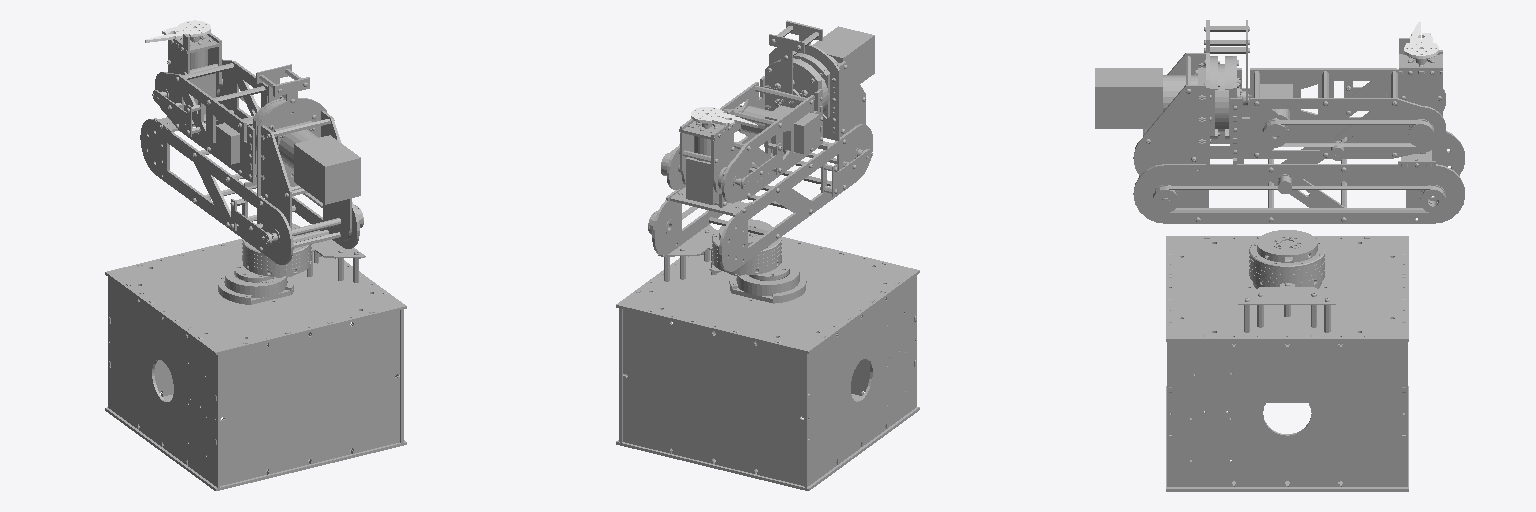
URDF robot description (urdf4):
<?xml version="1.0" encoding="utf-8"?>
<!-- This URDF was automatically created by SolidWorks to URDF Exporter! Originally created by [author] ([email redacted]) 
     Commit Version: 1.6.0-1-g15f4949  Build Version: 1.6.7594.29634
     For more information, please see http://wiki.ros.org/sw_urdf_exporter -->
<robot
  name="urdf4">
  <link
    name="base_link">
    <inertial>
      <origin
        xyz="-0.14899 0.15002 -0.0759"
        rpy="0 0 0" />
      <mass
        value="1.9822" />
      <inertia
        ixx="0.012049"
        ixy="1.1566E-08"
        ixz="1.8132E-07"
        iyy="0.011641"
        iyz="1.7455E-07"
        izz="0.016009" />
    </inertial>
    <visual>
      <origin
        xyz="0 0 0"
        rpy="0 0 0" />
      <geometry>
        <mesh
          filename="package://urdf4/meshes/base_link.STL" />
      </geometry>
      <material
        name="">
        <color
          rgba="0.75294 0.75294 0.75294 1" />
      </material>
    </visual>
    <collision>
      <origin
        xyz="0 0 0"
        rpy="0 0 0" />
      <geometry>
        <mesh
          filename="package://urdf4/meshes/base_link.STL" />
      </geometry>
    </collision>
  </link>
  <link
    name="link1">
    <inertial>
      <origin
        xyz="-0.0013865 0.15276 0.088653"
        rpy="0 0 0" />
      <mass
        value="1.3755" />
      <inertia
        ixx="0.0017311"
        ixy="4.6286E-06"
        ixz="5.0014E-06"
        iyy="0.002521"
        iyz="-0.00028073"
        izz="0.0030047" />
    </inertial>
    <visual>
      <origin
        xyz="0 0 0"
        rpy="0 0 0" />
      <geometry>
        <mesh
          filename="package://urdf4/meshes/link1.STL" />
      </geometry>
      <material
        name="">
        <color
          rgba="0.75294 0.75294 0.75294 1" />
      </material>
    </visual>
    <collision>
      <origin
        xyz="0 0 0"
        rpy="0 0 0" />
      <geometry>
        <mesh
          filename="package://urdf4/meshes/link1.STL" />
      </geometry>
    </collision>
  </link>
  <joint
    name="joint1"
    type="revolute">
    <origin
      xyz="-0.15 0.15 0.0375"
      rpy="0 0 0" />
    <parent
      link="base_link" />
    <child
      link="link1" />
    <axis
      xyz="0 0 1" />
    <limit
      lower="0"
      upper="0"
      effort="0"
      velocity="0" />
  </joint>
  <link
    name="link2">
    <inertial>
      <origin
        xyz="-0.17171 -0.0022525 0.037709"
        rpy="0 0 0" />
      <mass
        value="0.2987" />
      <inertia
        ixx="0.00016953"
        ixy="5.2701E-06"
        ixz="-9.0978E-13"
        iyy="0.0029683"
        iyz="-8.8435E-13"
        izz="0.0030499" />
    </inertial>
    <visual>
      <origin
        xyz="0 0 0"
        rpy="0 0 0" />
      <geometry>
        <mesh
          filename="package://urdf4/meshes/link2.STL" />
      </geometry>
      <material
        name="">
        <color
          rgba="0.75294 0.75294 0.75294 1" />
      </material>
    </visual>
    <collision>
      <origin
        xyz="0 0 0"
        rpy="0 0 0" />
      <geometry>
        <mesh
          filename="package://urdf4/meshes/link2.STL" />
      </geometry>
    </collision>
  </link>
  <joint
    name="joint2"
    type="revolute">
    <origin
      xyz="0.0495 0.18 0.118"
      rpy="-1.5708 0 1.5708" />
    <parent
      link="link1" />
    <child
      link="link2" />
    <axis
      xyz="0 0 -1" />
    <limit
      lower="0"
      upper="0"
      effort="0"
      velocity="0" />
  </joint>
  <link
    name="link3">
    <inertial>
      <origin
        xyz="0.0052197 -0.10068 -0.044998"
        rpy="0 0 0" />
      <mass
        value="0.69326" />
      <inertia
        ixx="0.00064304"
        ixy="3.0941E-05"
        ixz="-7.9077E-09"
        iyy="0.00097281"
        iyz="-6.2841E-09"
        izz="0.0011748" />
    </inertial>
    <visual>
      <origin
        xyz="0 0 0"
        rpy="0 0 0" />
      <geometry>
        <mesh
          filename="package://urdf4/meshes/link3.STL" />
      </geometry>
      <material
        name="">
        <color
          rgba="0.75294 0.75294 0.75294 1" />
      </material>
    </visual>
    <collision>
      <origin
        xyz="0 0 0"
        rpy="0 0 0" />
      <geometry>
        <mesh
          filename="package://urdf4/meshes/link3.STL" />
      </geometry>
    </collision>
  </link>
  <joint
    name="joint3"
    type="revolute">
    <origin
      xyz="-0.33 -0.00015681 0.095"
      rpy="0 0 0" />
    <parent
      link="link2" />
    <child
      link="link3" />
    <axis
      xyz="0 0 -1" />
    <limit
      lower="0"
      upper="0"
      effort="0"
      velocity="0" />
  </joint>
  <link
    name="link4">
    <inertial>
      <origin
        xyz="0.0020304 0.018808 0.072716"
        rpy="0 0 0" />
      <mass
        value="0.43855" />
      <inertia
        ixx="0.0009677"
        ixy="1.2408E-08"
        ixz="-8.7228E-13"
        iyy="0.00096859"
        iyz="5.1704E-06"
        izz="0.00033754" />
    </inertial>
    <visual>
      <origin
        xyz="0 0 0"
        rpy="0 0 0" />
      <geometry>
        <mesh
          filename="package://urdf4/meshes/link4.STL" />
      </geometry>
      <material
        name="">
        <color
          rgba="0.75294 0.75294 0.75294 1" />
      </material>
    </visual>
    <collision>
      <origin
        xyz="0 0 0"
        rpy="0 0 0" />
      <geometry>
        <mesh
          filename="package://urdf4/meshes/link4.STL" />
      </geometry>
    </collision>
  </link>
  <joint
    name="joint4"
    type="revolute">
    <origin
      xyz="0.091491 -0.10584 -0.045"
      rpy="0 1.5708 0" />
    <parent
      link="link3" />
    <child
      link="link4" />
    <axis
      xyz="0 0 1" />
    <limit
      lower="0"
      upper="0"
      effort="0"
      velocity="0" />
  </joint>
  <link
    name="link5">
    <inertial>
      <origin
        xyz="7.4642E-05 -0.018439 -0.032488"
        rpy="0 0 0" />
      <mass
        value="0.2392" />
      <inertia
        ixx="0.00018859"
        ixy="9.6096E-07"
        ixz="-1.4516E-09"
        iyy="5.6612E-05"
        iyz="-1.1347E-08"
        izz="0.00020112" />
    </inertial>
    <visual>
      <origin
        xyz="0 0 0"
        rpy="0 0 0" />
      <geometry>
        <mesh
          filename="package://urdf4/meshes/link5.STL" />
      </geometry>
      <material
        name="">
        <color
          rgba="0.75294 0.75294 0.75294 1" />
      </material>
    </visual>
    <collision>
      <origin
        xyz="0 0 0"
        rpy="0 0 0" />
      <geometry>
        <mesh
          filename="package://urdf4/meshes/link5.STL" />
      </geometry>
    </collision>
  </link>
  <joint
    name="joint5"
    type="revolute">
    <origin
      xyz="0.0305 0.02185 0.224"
      rpy="0 1.5708 0" />
    <parent
      link="link4" />
    <child
      link="link5" />
    <axis
      xyz="0 0 1" />
    <limit
      lower="0"
      upper="0"
      effort="0"
      velocity="0" />
  </joint>
  <link
    name="link6">
    <inertial>
      <origin
        xyz="0.017164 0.00018833 0.020914"
        rpy="0 0 0" />
      <mass
        value="0.021655" />
      <inertia
        ixx="6.5964E-06"
        ixy="-1.7068E-07"
        ixz="-4.2317E-22"
        iyy="1.0789E-05"
        iyz="8.5837E-21"
        izz="7.0208E-06" />
    </inertial>
    <visual>
      <origin
        xyz="0 0 0"
        rpy="0 0 0" />
      <geometry>
        <mesh
          filename="package://urdf4/meshes/link6.STL" />
      </geometry>
      <material
        name="">
        <color
          rgba="0.75294 0.75294 0.75294 1" />
      </material>
    </visual>
    <collision>
      <origin
        xyz="0 0 0"
        rpy="0 0 0" />
      <geometry>
        <mesh
          filename="package://urdf4/meshes/link6.STL" />
      </geometry>
    </collision>
  </link>
  <joint
    name="joint6"
    type="revolute">
    <origin
      xyz="0 -0.086 -0.0305"
      rpy="1.5708 1.5708 0" />
    <parent
      link="link5" />
    <child
      link="link6" />
    <axis
      xyz="0 0 1" />
    <limit
      lower="0"
      upper="0"
      effort="0"
      velocity="0" />
  </joint>
  <link
    name="gripper">
    <inertial>
      <origin
        xyz="-0.06479 -0.00053725 -0.002"
        rpy="0 0 0" />
      <mass
        value="0.008813" />
      <inertia
        ixx="9.1247E-07"
        ixy="-1.7068E-07"
        ixz="-7.1989E-22"
        iyy="4.3239E-06"
        iyz="-6.2069E-23"
        izz="5.2128E-06" />
    </inertial>
    <visual>
      <origin
        xyz="0 0 0"
        rpy="0 0 0" />
      <geometry>
        <mesh
          filename="package://urdf4/meshes/gripper.STL" />
      </geometry>
      <material
        name="">
        <color
          rgba="1 1 1 1" />
      </material>
    </visual>
    <collision>
      <origin
        xyz="0 0 0"
        rpy="0 0 0" />
      <geometry>
        <mesh
          filename="package://urdf4/meshes/gripper.STL" />
      </geometry>
    </collision>
  </link>
  <joint
    name="g"
    type="fixed">
    <origin
      xyz="0.078254 0.001 0.004"
      rpy="0 0 0" />
    <parent
      link="link6" />
    <child
      link="gripper" />
    <axis
      xyz="0 0 0" />
  </joint>
</robot>

--- Facts derived from the render (not from the file) ---
Views: 3 orthographic renders of the robot side by side, from view 1: azimuth 30°, elevation 25°; view 2: azimuth 150°, elevation 25°; view 3: azimuth 270°, elevation 25°.
Model urdf4 with 8 links and 7 joints (6 revolute, 1 fixed), rooted at base_link, posed all joints at 0.
Visible links, largest first — view 1: base_link, link3, link2, link4, link5, link1, gripper; view 2: base_link, link2, link4, link3, link5, link1, gripper; view 3: base_link, link2, link4, link3, link1, link5, gripper.
Boxes of the visible links, <box> form: base_link: <box>105,230,406,490</box>; link3: <box>255,64,360,247</box>; link2: <box>140,102,363,264</box>; link4: <box>152,59,285,187</box>; link5: <box>160,32,222,114</box>; link1: <box>242,223,311,282</box>; gripper: <box>145,20,210,42</box>; base_link: <box>616,224,919,490</box>; link2: <box>648,124,872,271</box>; link4: <box>661,58,827,203</box>; link3: <box>769,20,874,163</box>; link5: <box>678,109,741,207</box>; link1: <box>709,219,781,276</box>; gripper: <box>691,107,757,127</box>; base_link: <box>1166,236,1408,491</box>; link2: <box>1133,130,1464,223</box>; link4: <box>1225,56,1445,165</box>; link3: <box>1095,20,1251,171</box>; link1: <box>1249,230,1324,286</box>; link5: <box>1399,38,1442,153</box>; gripper: <box>1404,22,1438,58</box>.
Bounding box of the posed robot: 0.3 × 0.458 × 0.5595 m (x, y, z).
7 mesh visuals loaded from 8 distinct referenced files (7 binary STL); not drawn: 1 (file found but could not be loaded).
